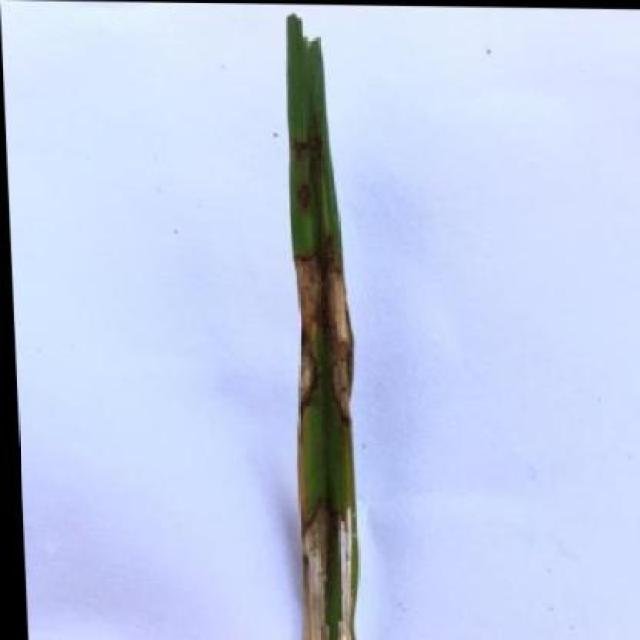Brown_Spot: (266, 3, 371, 640)
